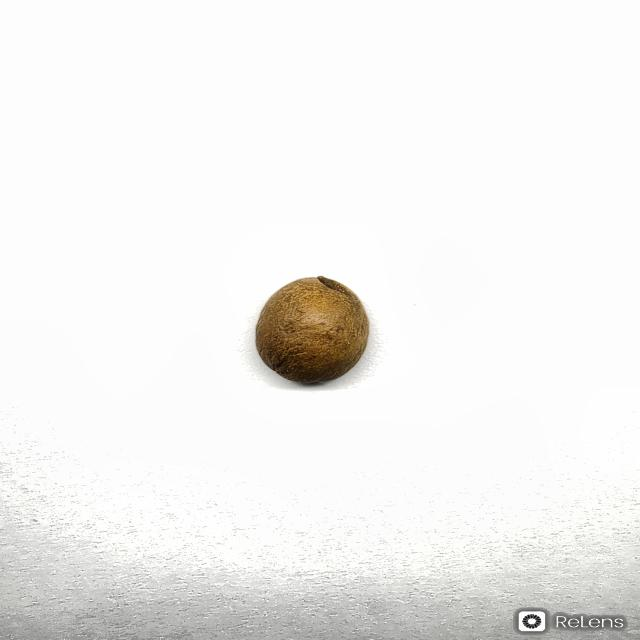Quaker: (254, 274, 370, 384)
